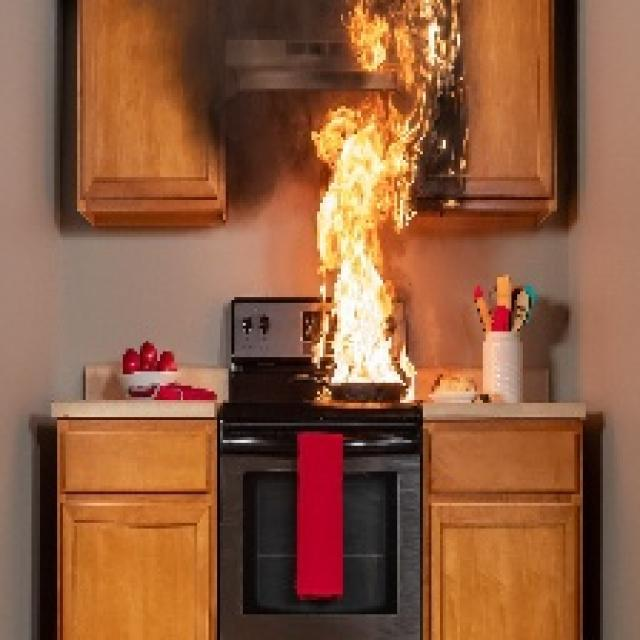Fire: (316, 0, 454, 379)
